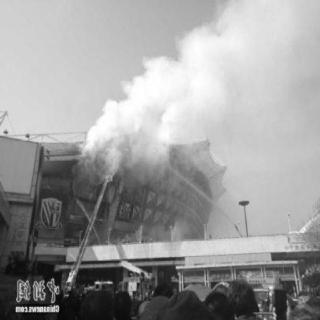Smoke: (82, 2, 310, 176)
